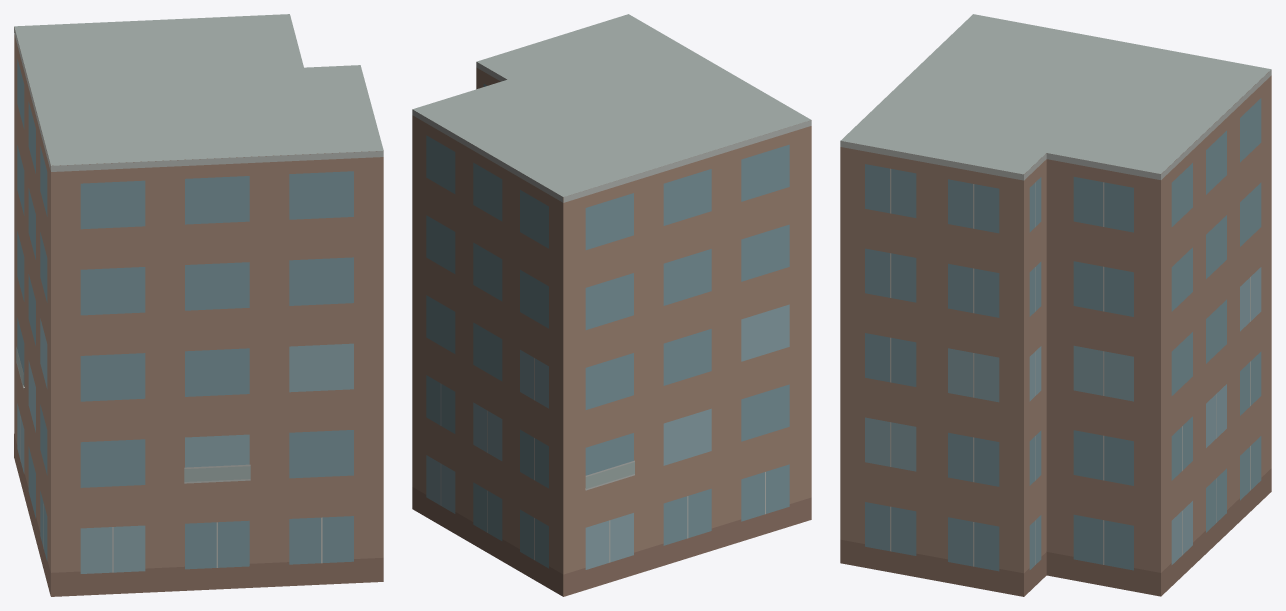
File: survey-upis-32999283.glb
3 renders of one model, left to right at view 1: azimuth 30°, elevation 25°; view 2: azimuth 150°, elevation 25°; view 3: azimuth 270°, elevation 25°, orthographic. The views are drawn at different scales.
Parts seen in each view (by area): view 1: survey-upis-32999283.tmp; view 2: survey-upis-32999283.tmp; view 3: survey-upis-32999283.tmp.
Part boxes in pixels (bbox=[...]): survey-upis-32999283.tmp: bbox=[14, 14, 383, 596]; survey-upis-32999283.tmp: bbox=[412, 14, 811, 596]; survey-upis-32999283.tmp: bbox=[840, 14, 1271, 596].
Bounding box in the file's own units: 13.74 × 16.85 × 15.6.
